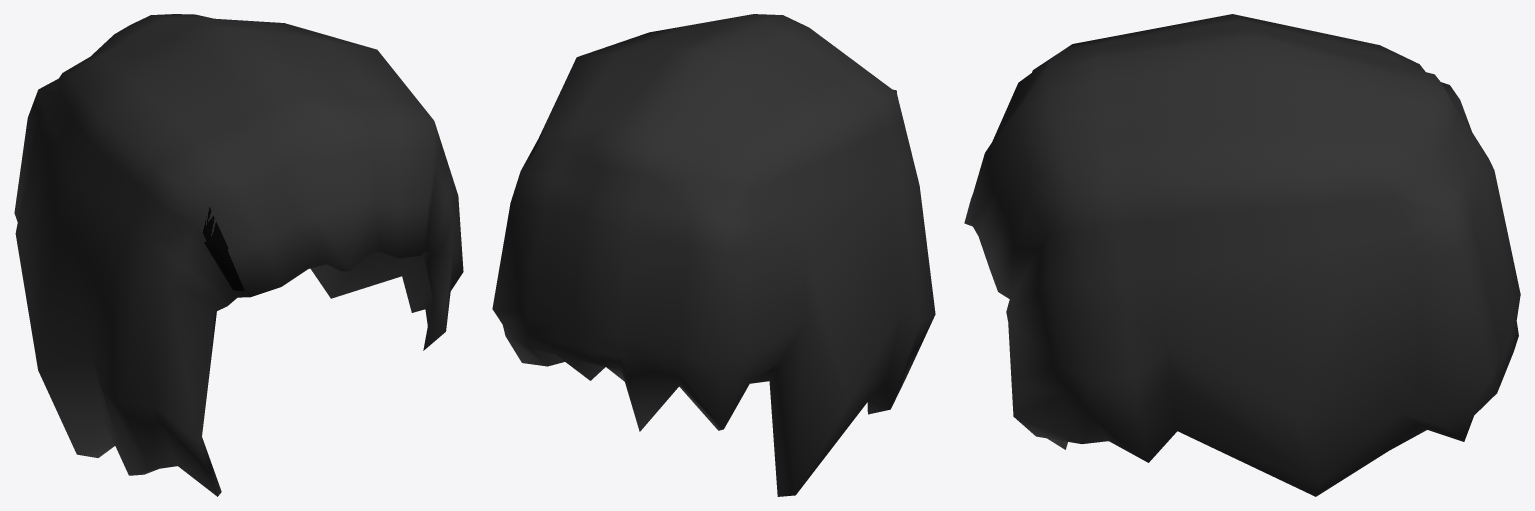
The model's file is W-prihason.fbx.
3 renders of one model, left to right at view 1: azimuth 30°, elevation 25°; view 2: azimuth 150°, elevation 25°; view 3: azimuth 270°, elevation 25°, orthographic. The views are drawn at different scales.
Parts seen in each view (by area): view 1: Lisa; view 2: Lisa; view 3: Lisa.
Boxes of the visible parts, x1,y1,x2,y2 form: Lisa: (14,14,463,496); Lisa: (492,14,935,496); Lisa: (964,14,1520,496).
Size of the model in its own units: 21 by 24.43 by 24.22.
1 material, 1 textured.
